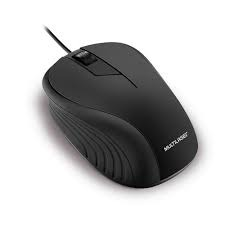mouse: (33, 37, 204, 193)
